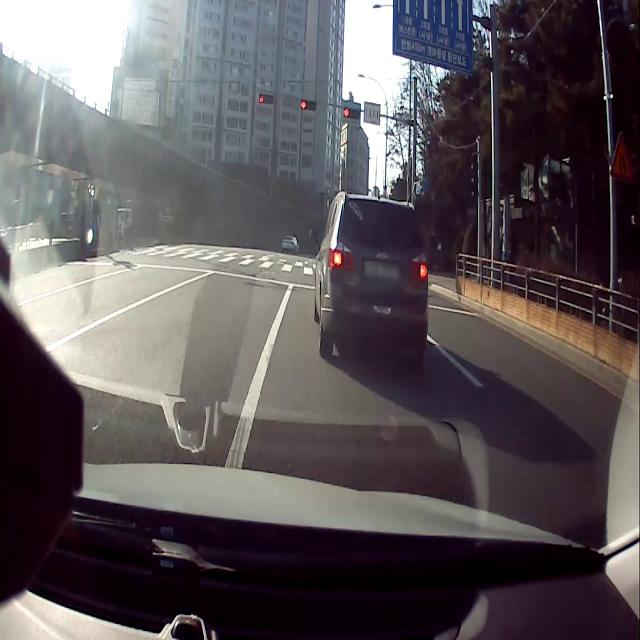Red Light: (344, 106, 350, 118), (301, 99, 306, 110), (259, 94, 264, 104)
